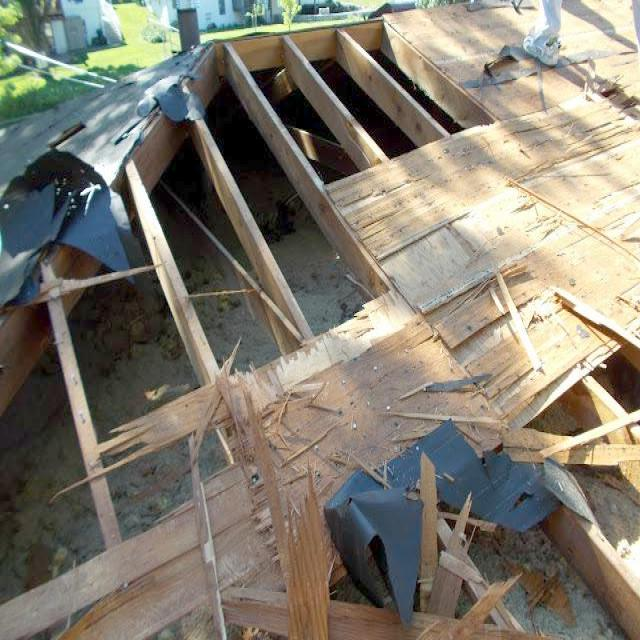Severely_Damaged: (0, 27, 619, 617)
